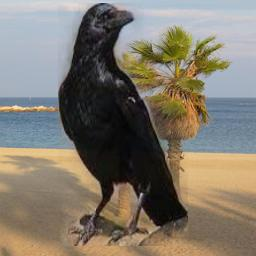Crow: (58, 3, 188, 246)
